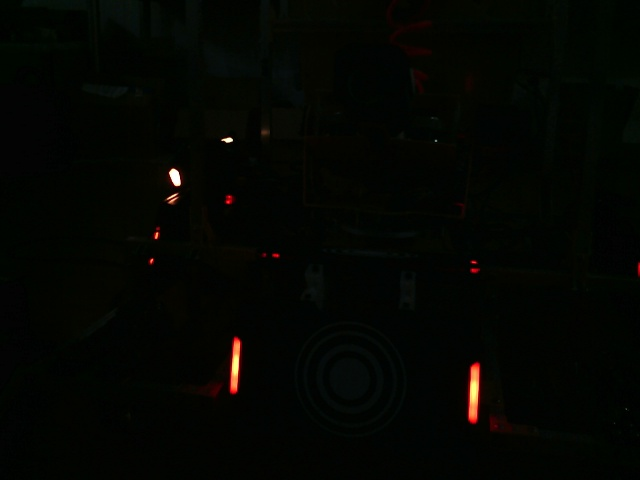lamp: (465, 360, 481, 423), (228, 334, 240, 396)
